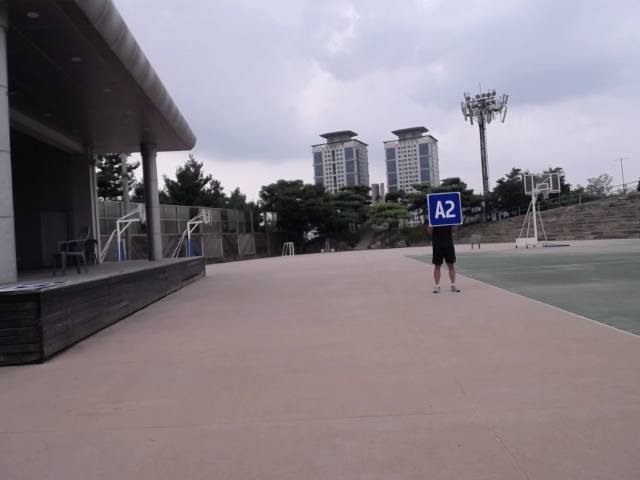delivery_a2: (428, 192, 463, 226)
